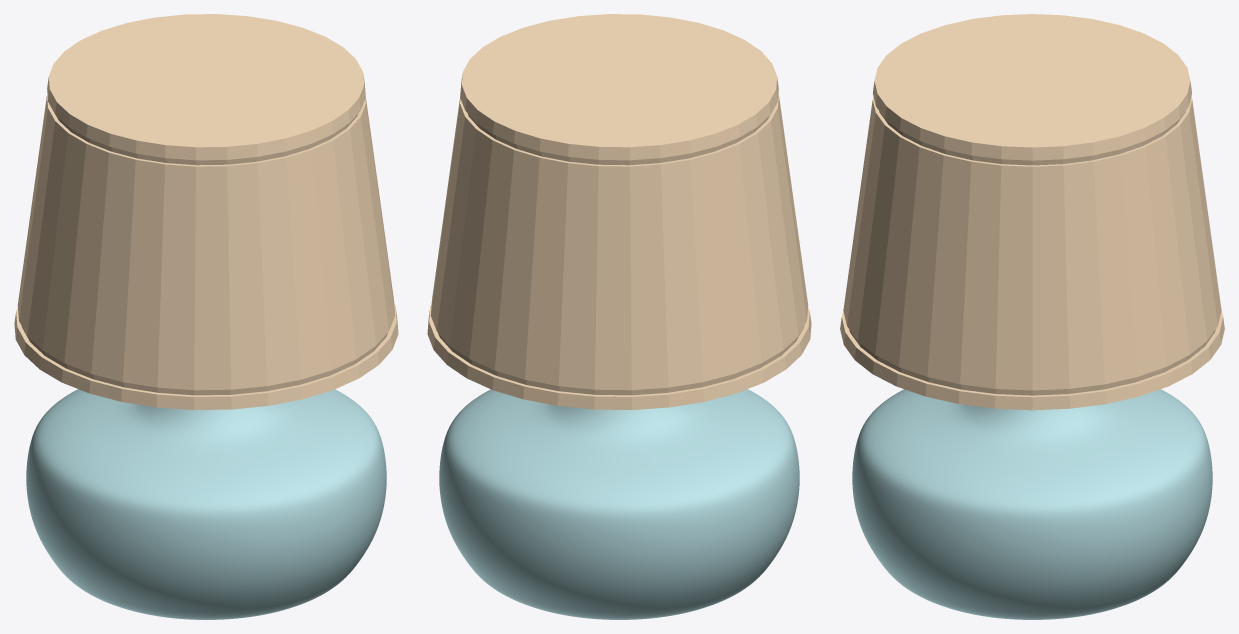
File: tablelamp.fbx
The picture shows the model from 3 angles, left to right: view 1: azimuth 30°, elevation 25°; view 2: azimuth 150°, elevation 25°; view 3: azimuth 270°, elevation 25°; orthographic projection.
Visible parts, largest first — view 1: Cylinder; view 2: Cylinder; view 3: Cylinder.
Boxes of the visible parts, box(x1,y1,x2,y2) form: Cylinder: box(14, 14, 398, 619); Cylinder: box(427, 14, 811, 619); Cylinder: box(840, 14, 1224, 619).
Size of the model in its own units: 212 by 298 by 212.
